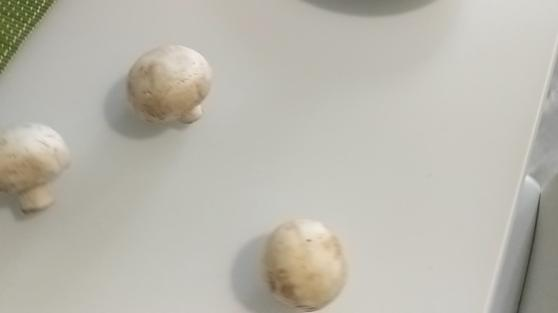champignon: (264, 213, 347, 309), (1, 120, 82, 215), (131, 40, 217, 126)
